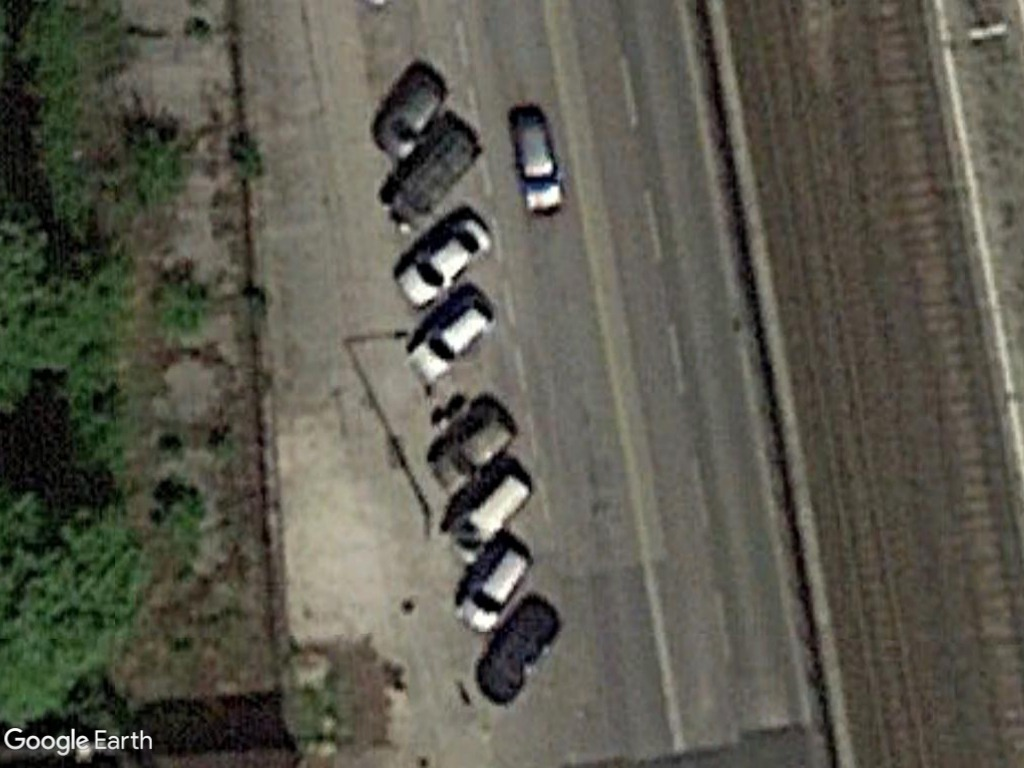car: (393, 214, 494, 310), (406, 289, 499, 386), (429, 399, 519, 498), (453, 539, 533, 637), (372, 72, 448, 166), (507, 110, 568, 220)
